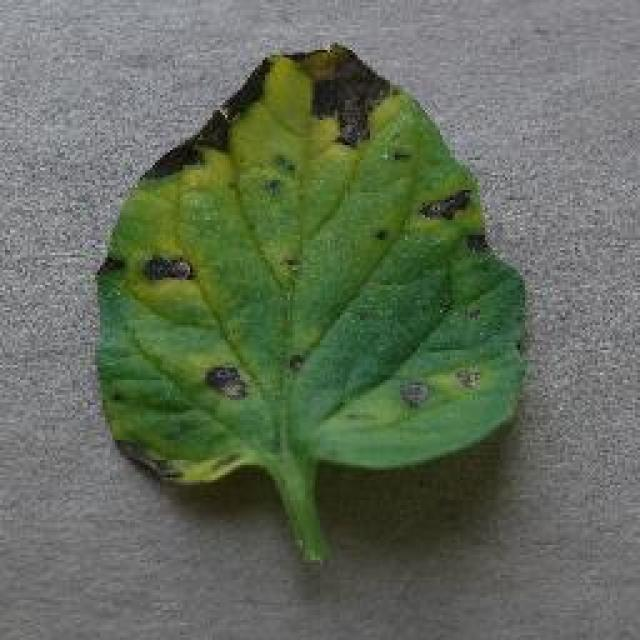Tomato Early blight leaf: (99, 39, 534, 493)
